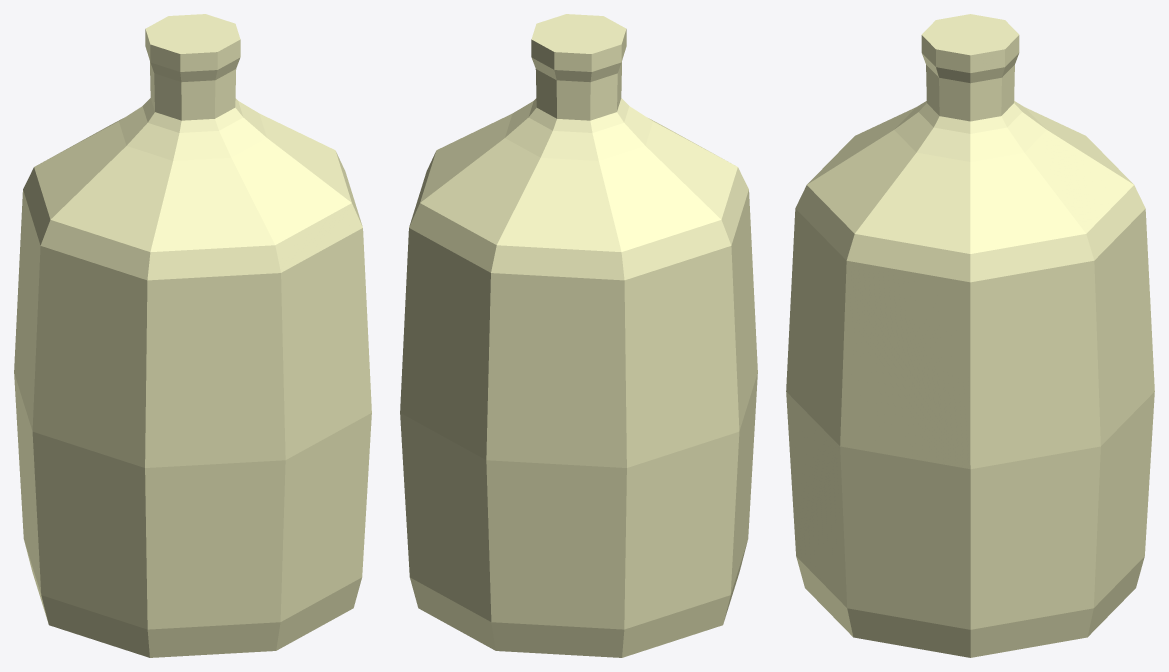
Rendered from Asian_Prop_Sake_Bottle_02.FBX.
3 views of the same model, side by side, from view 1: azimuth 30°, elevation 25°; view 2: azimuth 150°, elevation 25°; view 3: azimuth 270°, elevation 25° (orthographic).
Visible parts, largest first — view 1: Asian_Prop_Sake_Bottle_02; view 2: Asian_Prop_Sake_Bottle_02; view 3: Asian_Prop_Sake_Bottle_02.
Boxes of the visible parts, x1,y1,x2,y2 form: Asian_Prop_Sake_Bottle_02: (14,14,371,657); Asian_Prop_Sake_Bottle_02: (400,14,757,657); Asian_Prop_Sake_Bottle_02: (786,14,1154,657).
Size of the model in its own units: 137 by 227 by 137.
